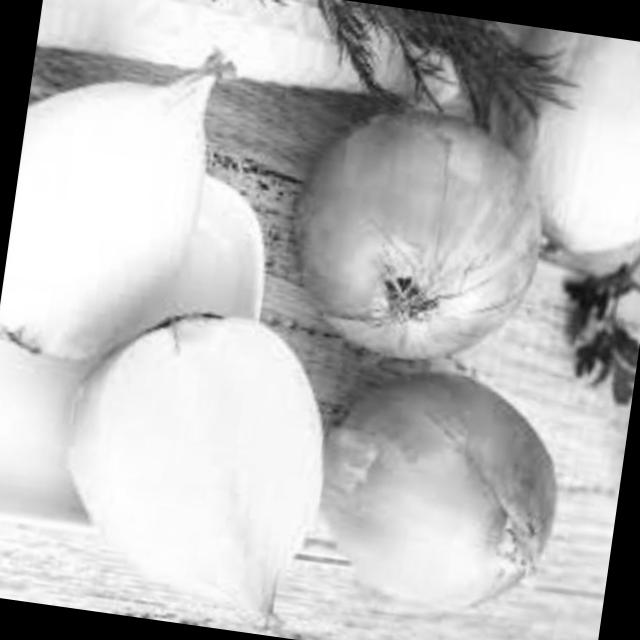cu hanh: (39, 280, 358, 636), (0, 0, 254, 411), (270, 72, 576, 384), (294, 326, 602, 634), (468, 26, 640, 304)
